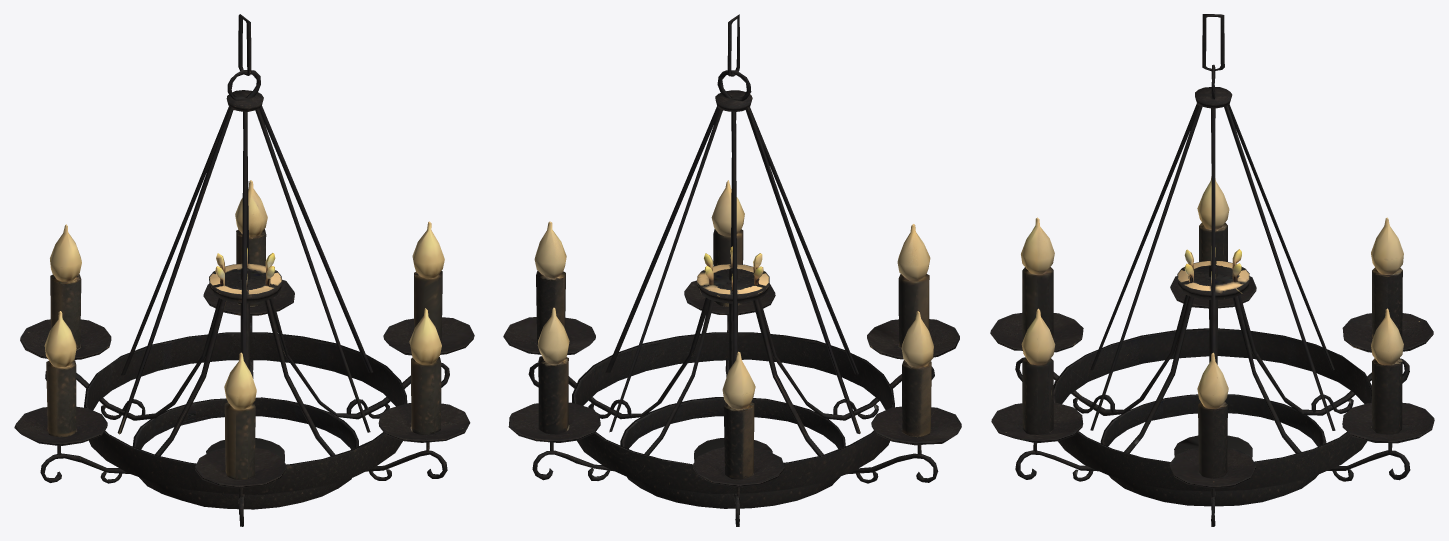
The model's file is lampara_colgante.glb.
3 renders of one model, left to right at view 1: azimuth 30°, elevation 25°; view 2: azimuth 150°, elevation 25°; view 3: azimuth 270°, elevation 25°, orthographic.
Bounding box in the file's own units: 0.9685 × 1 × 0.8322.
1 material, 1 textured.
